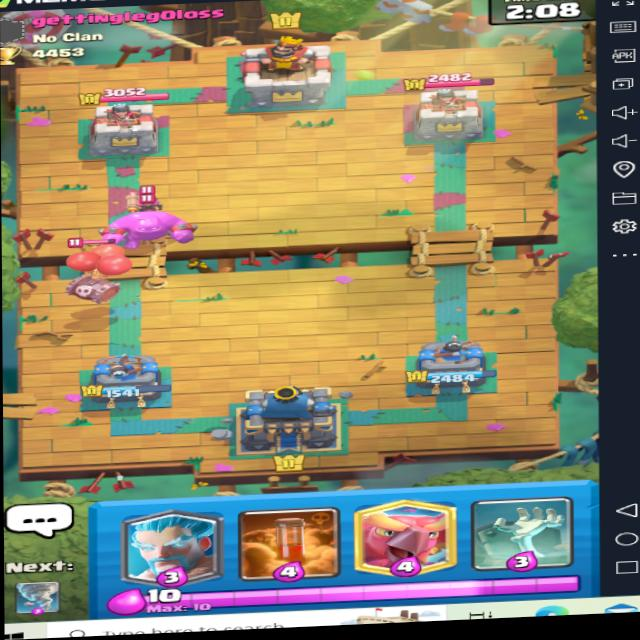electro-golem: (92, 206, 199, 260)
firecracker: (115, 178, 172, 214)
skeleton-barrel: (61, 233, 133, 308)
